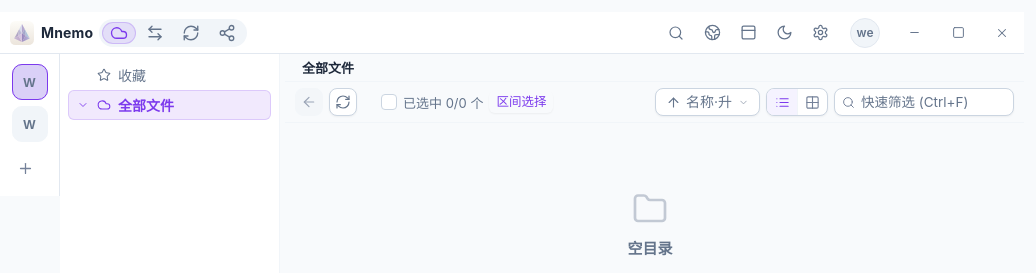
关键交互组件 › 重新点击当前账号会主动刷新左侧真实文件列表
Click the 1st button with class "rail-item" at (30, 82), box [12,64,48,100]
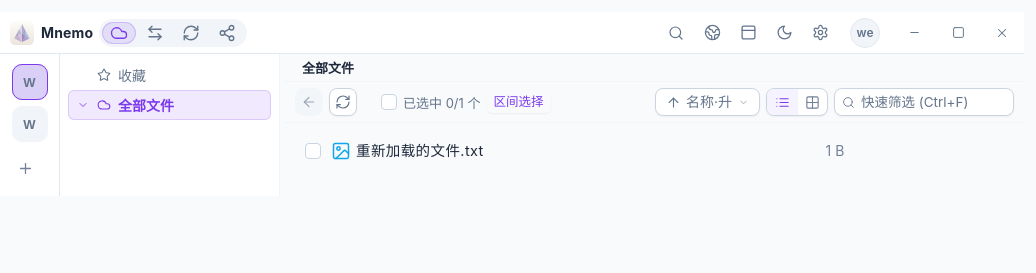
Now the text "重新加载的文件.txt" is shown, box [356,142,484,160]
Click the 2nd button with class "rail-item" at (30, 124), box [12,106,48,142]
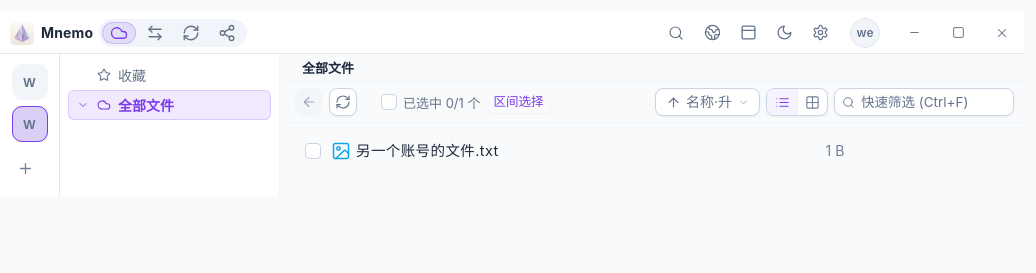
Now the text "另一个账号的文件.txt" is shown, box [356,142,499,160]
Now the text "重新加载的文件.txt" is gone
